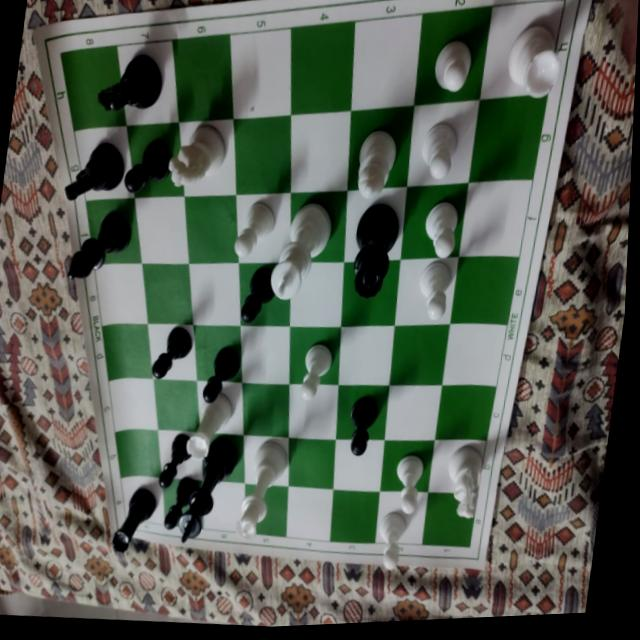board: (34, 0, 592, 569)
square: (479, 2, 565, 99), (413, 8, 491, 106), (468, 93, 548, 183), (350, 14, 422, 111), (406, 100, 479, 187), (290, 23, 354, 115), (458, 179, 532, 257), (60, 46, 126, 131), (346, 107, 413, 190), (229, 28, 290, 119), (172, 34, 233, 121), (117, 40, 179, 125), (400, 183, 468, 260), (291, 111, 350, 193), (343, 187, 406, 262), (449, 257, 518, 325), (233, 115, 291, 194), (178, 118, 236, 196), (74, 126, 134, 201), (394, 256, 458, 325), (126, 122, 184, 197), (441, 324, 507, 387), (290, 191, 347, 262), (341, 259, 400, 326), (235, 193, 290, 263), (85, 198, 141, 265), (389, 325, 450, 386), (134, 196, 189, 263), (184, 195, 237, 263), (289, 262, 344, 326), (434, 385, 496, 441), (338, 325, 394, 386), (94, 263, 147, 325), (238, 262, 289, 326), (427, 439, 486, 494), (188, 262, 239, 325), (384, 385, 442, 440), (141, 263, 193, 324), (422, 492, 478, 547), (289, 326, 341, 384), (336, 384, 389, 440), (101, 323, 152, 380), (192, 325, 242, 383), (240, 325, 289, 384), (379, 440, 434, 492), (147, 323, 196, 381), (374, 492, 427, 544), (288, 384, 337, 439), (333, 439, 384, 491), (330, 489, 379, 542), (108, 379, 157, 432), (242, 382, 289, 437), (196, 381, 243, 435), (286, 487, 333, 541), (288, 436, 335, 489), (153, 379, 200, 431), (243, 435, 288, 487), (244, 483, 287, 537), (199, 432, 244, 483), (201, 480, 244, 533), (157, 429, 201, 480), (114, 430, 160, 478), (161, 477, 202, 529), (121, 477, 164, 524)
